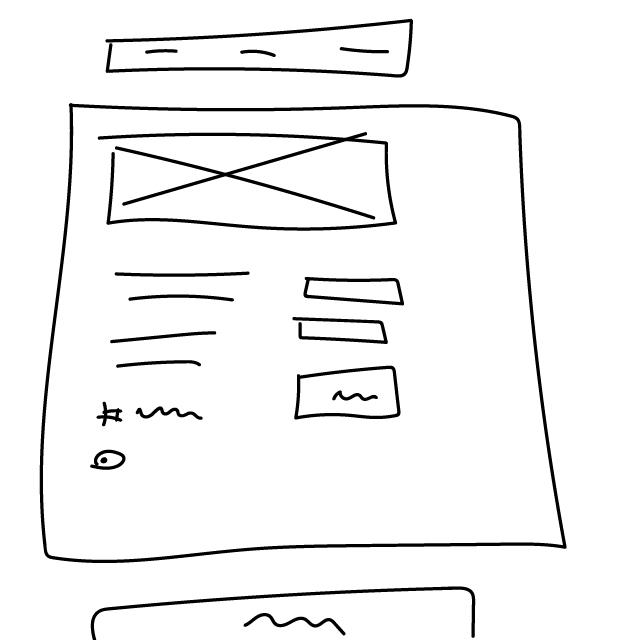button: (294, 365, 405, 429)
checkbox: (89, 446, 132, 474)
container: (23, 94, 587, 570)
footer: (80, 581, 489, 640)
frame: (98, 125, 402, 238)
heading: (97, 399, 207, 435)
input: (298, 275, 408, 310), (293, 314, 396, 349)
nav: (101, 17, 423, 81)
text: (104, 265, 257, 375)
